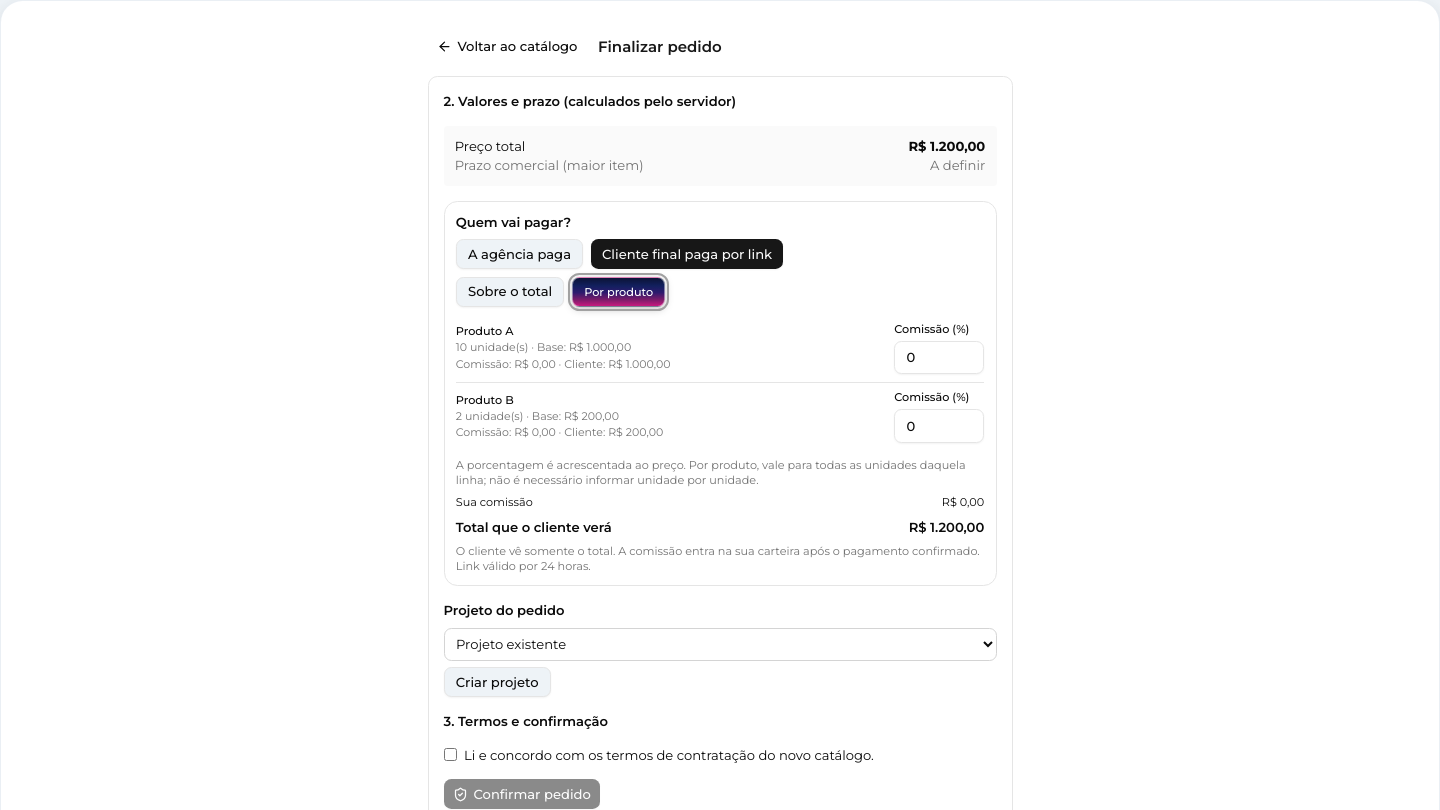
Test case: Checkout: projeto criado sem sair da contratação › comissão por produto inclui todas as unidades, preserva percentuais ao alternar e envia por cotação
Earlier steps of the test are not shown.
Later steps or results of the test are not shown.
Step 1. Replace the text in the number field named "Comissão de Produto A (%)" with "10" → coordinates (939, 357), box [894,340,984,374]
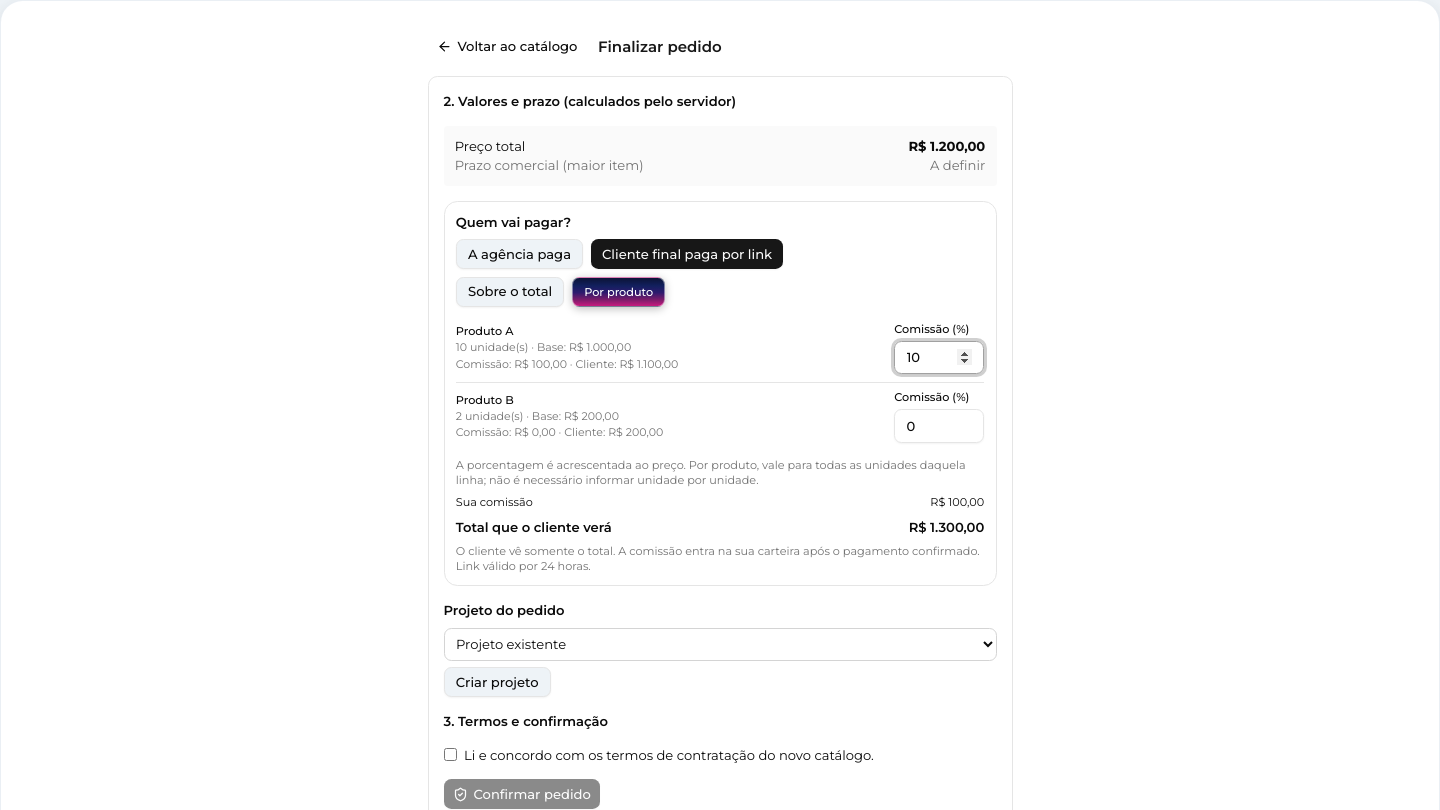
Step 2. Replace the text in the number field named "Comissão de Produto B (%)" with "6" → coordinates (939, 426), box [894,409,984,443]
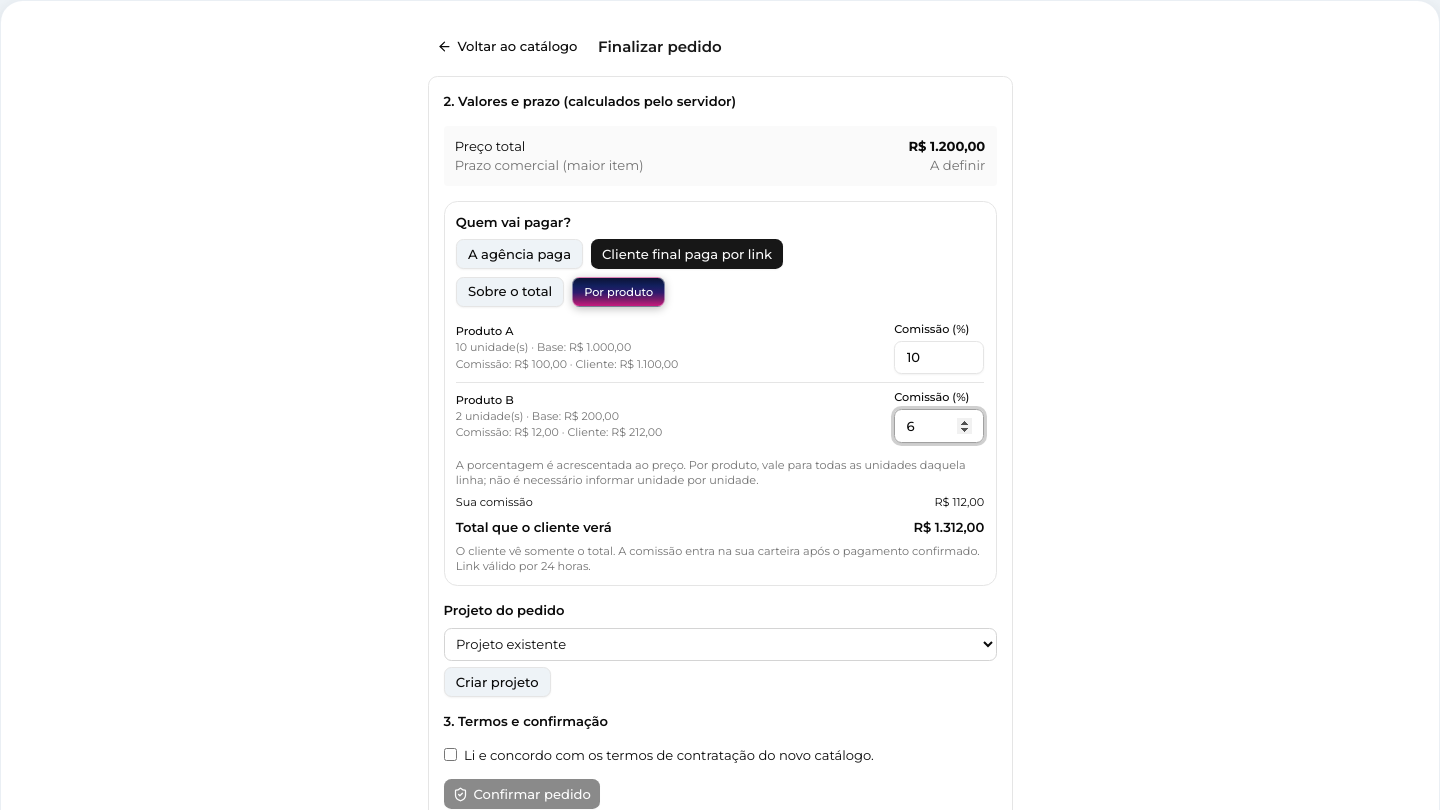
Expected: the text "10 unidade(s) · Base: R$ 1.000,00" is shown, [456,340,631,354]
Expected: the element named "Pagamento e comissão" shows "1.312,00", [913,519,984,535]
Step 3. Click the button "Sobre o total" → coordinates (510, 292), box [456,277,564,307]
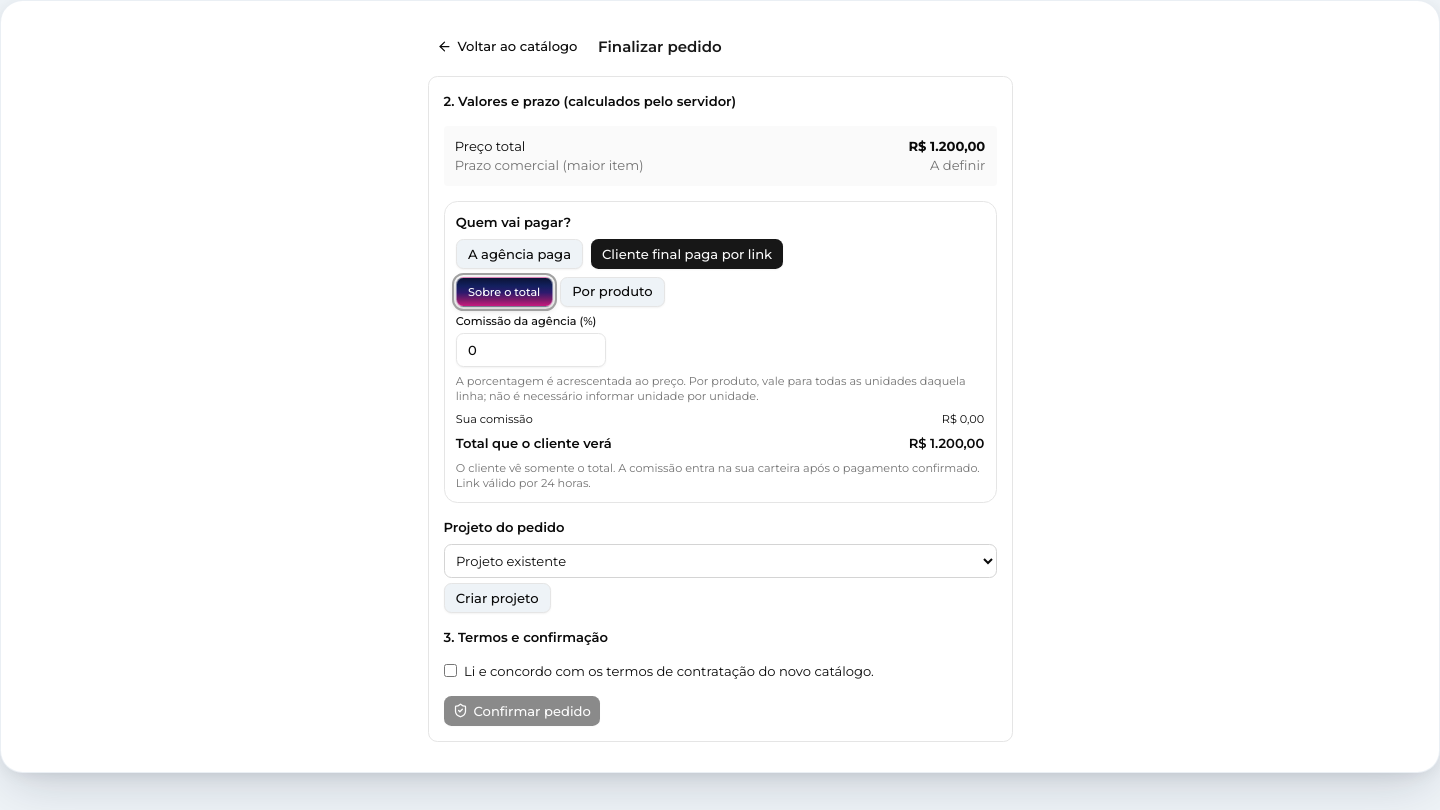
Step 4. Click the button "Por produto" → coordinates (612, 292), box [560,277,665,307]
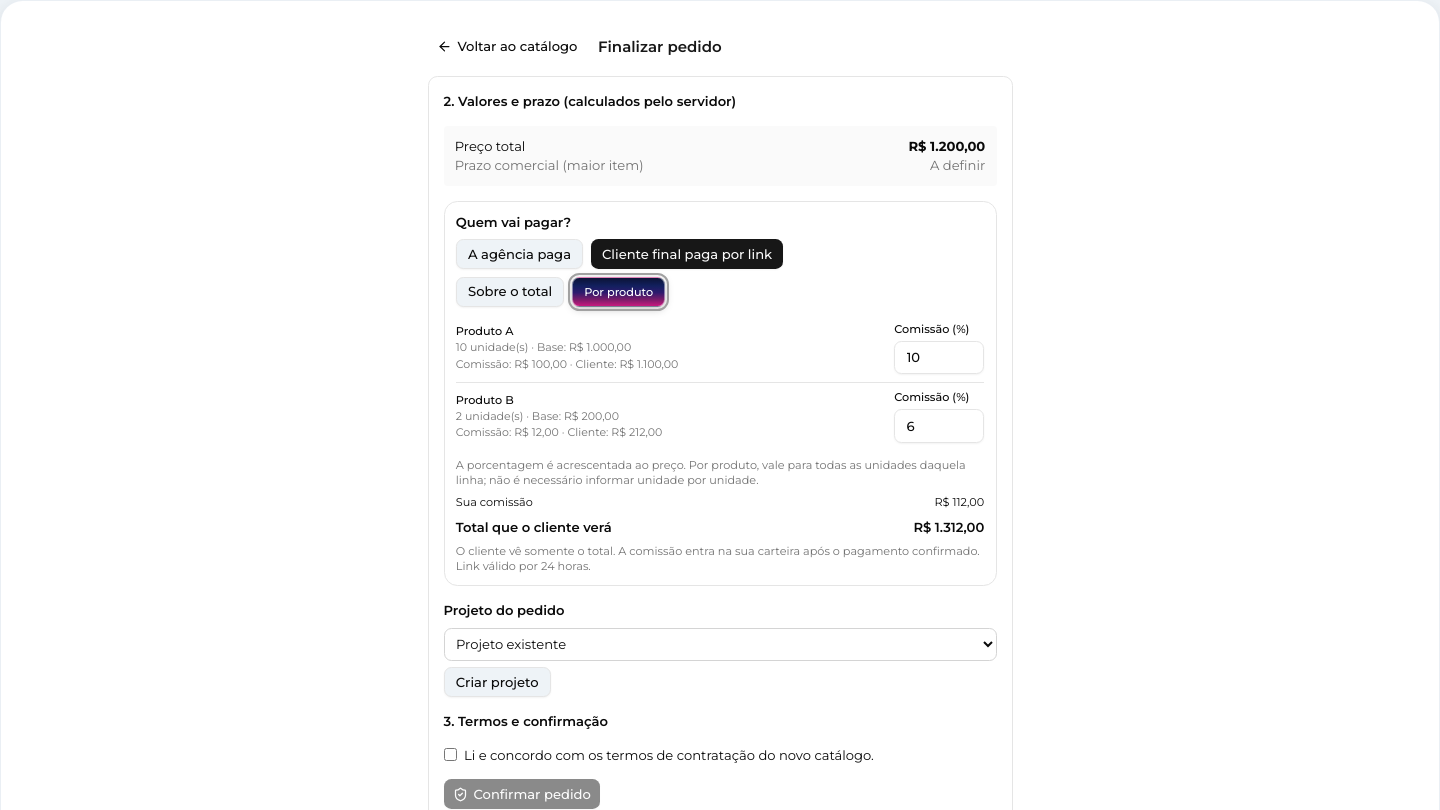
Expected: the number field named "Comissão de Produto A (%)" holds "10", [894,340,984,374]
Step 5. Replace the text in the number field named "Comissão de Produto B (%)" with "101" → coordinates (939, 426), box [894,409,984,443]
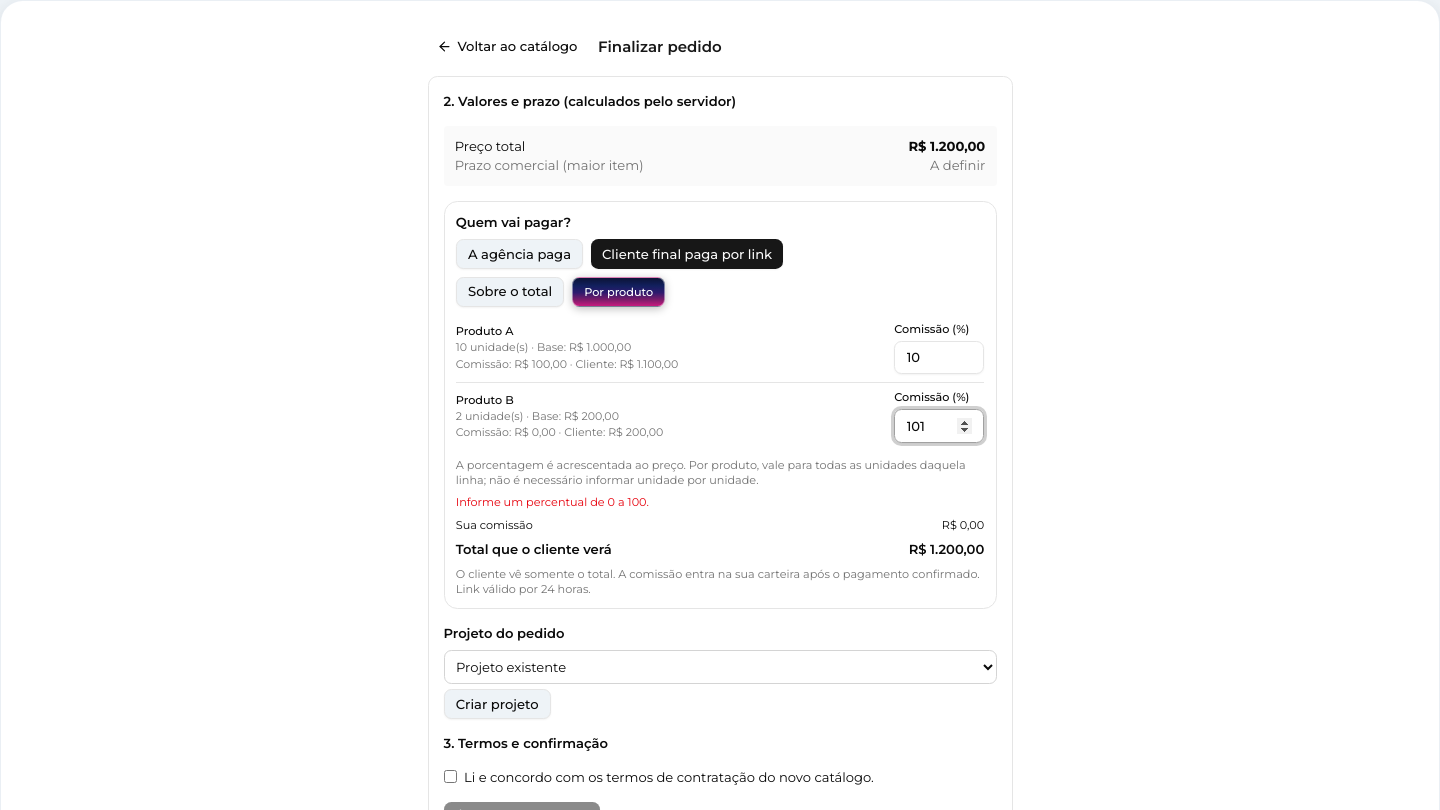
Step 6. Click the checkbox → coordinates (450, 776), box [444,770,456,783]
(page scrolled)
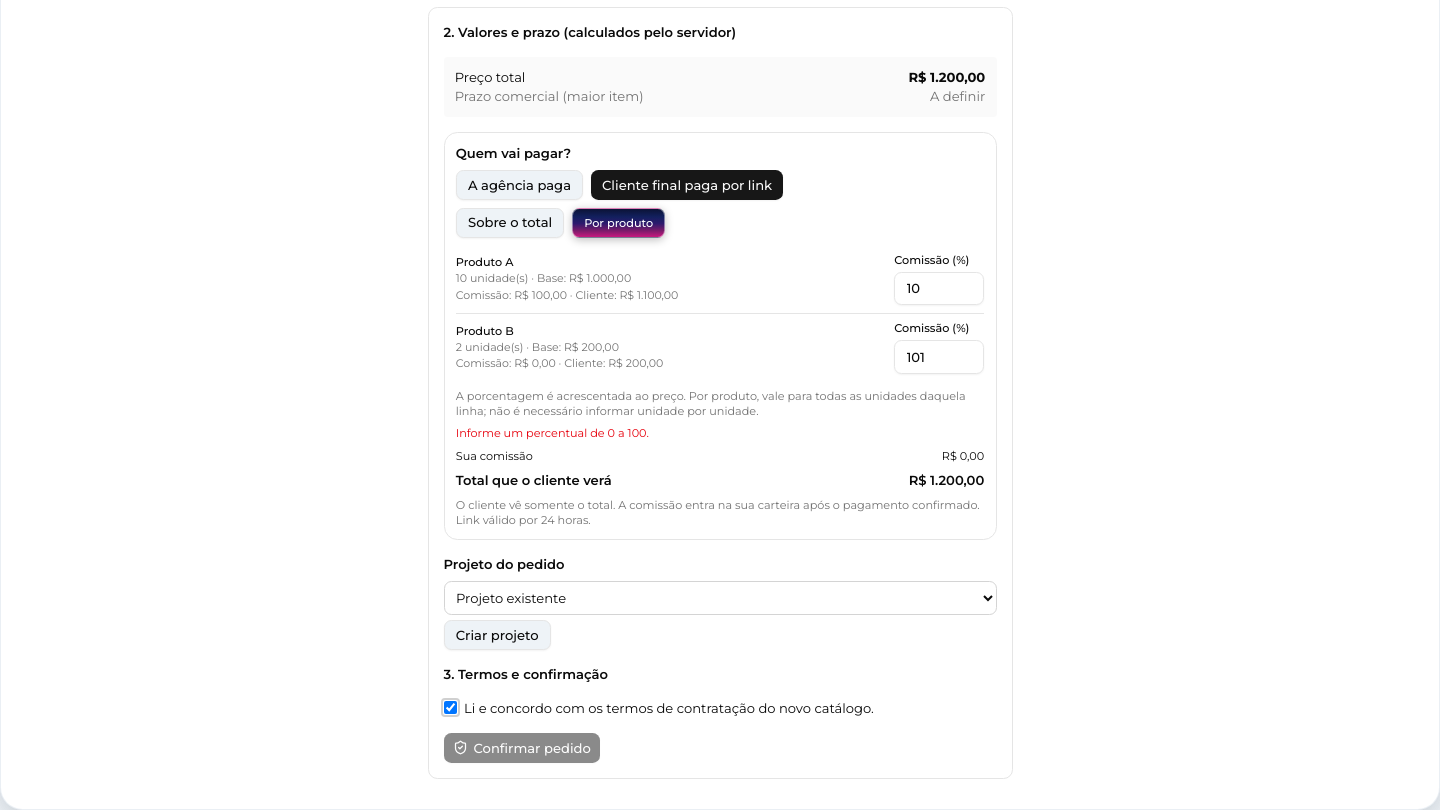
Expected: the button "Confirmar pedido" is disabled, [444,733,600,763]
